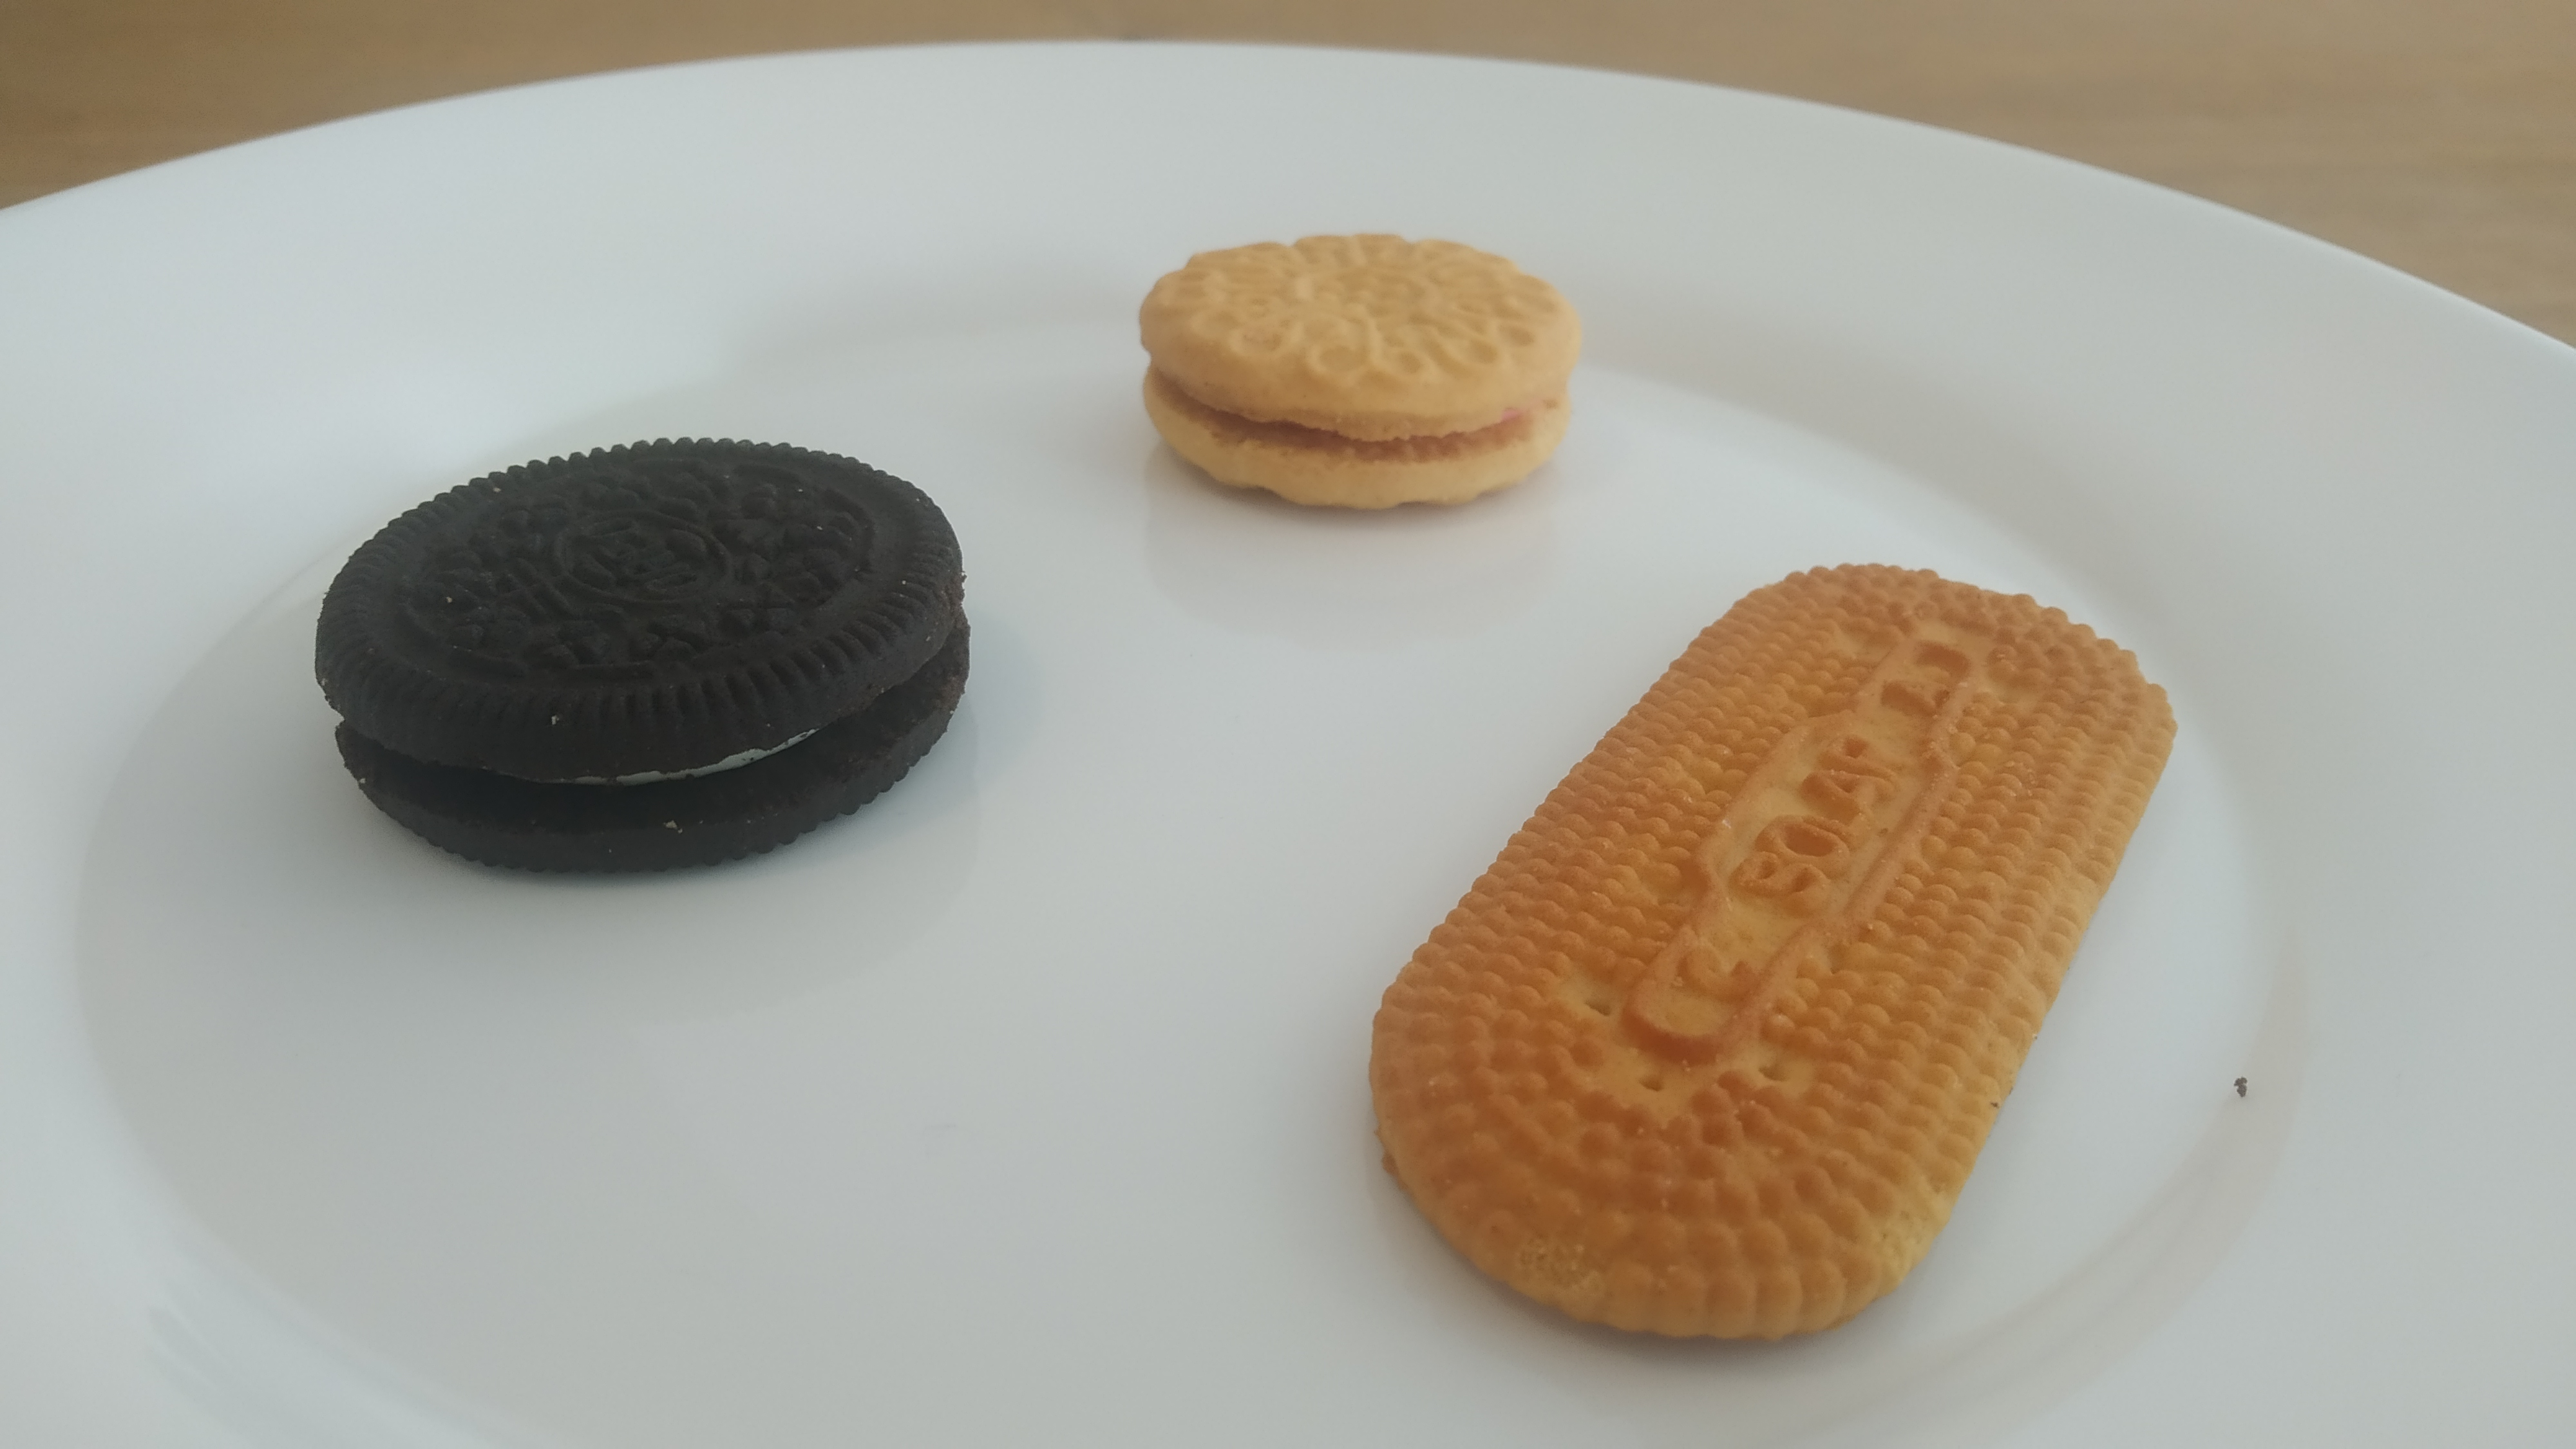lulu: (1141, 230, 1578, 511)
oreo: (311, 435, 975, 876)
solar: (1368, 561, 2176, 1339)
